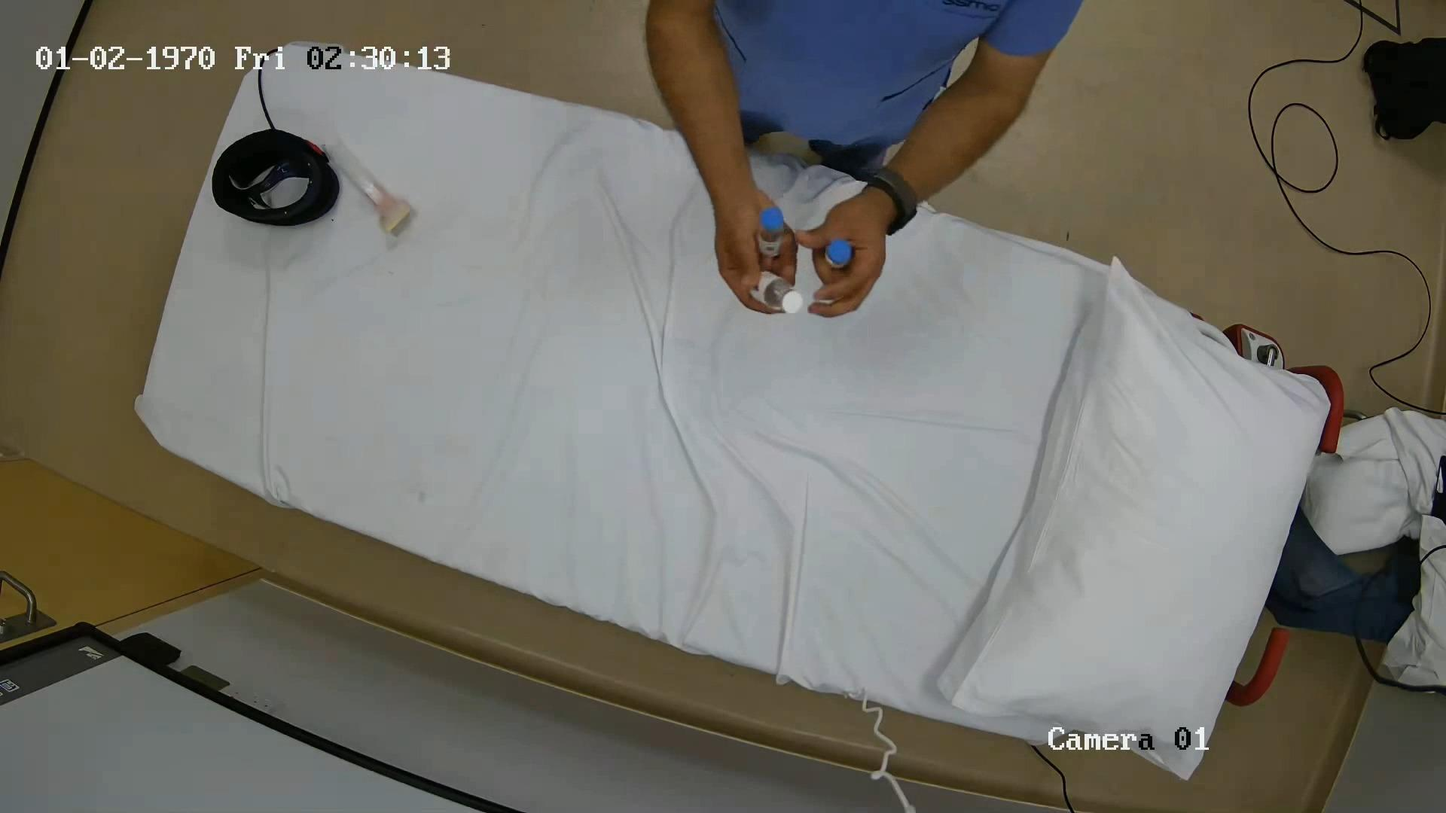augmentin: (752, 274, 803, 313)
bed: (136, 70, 1326, 778)
cefazolin: (758, 207, 787, 257), (825, 240, 853, 266)
prepstick: (322, 145, 410, 236)
tourniquet: (211, 126, 340, 226)
